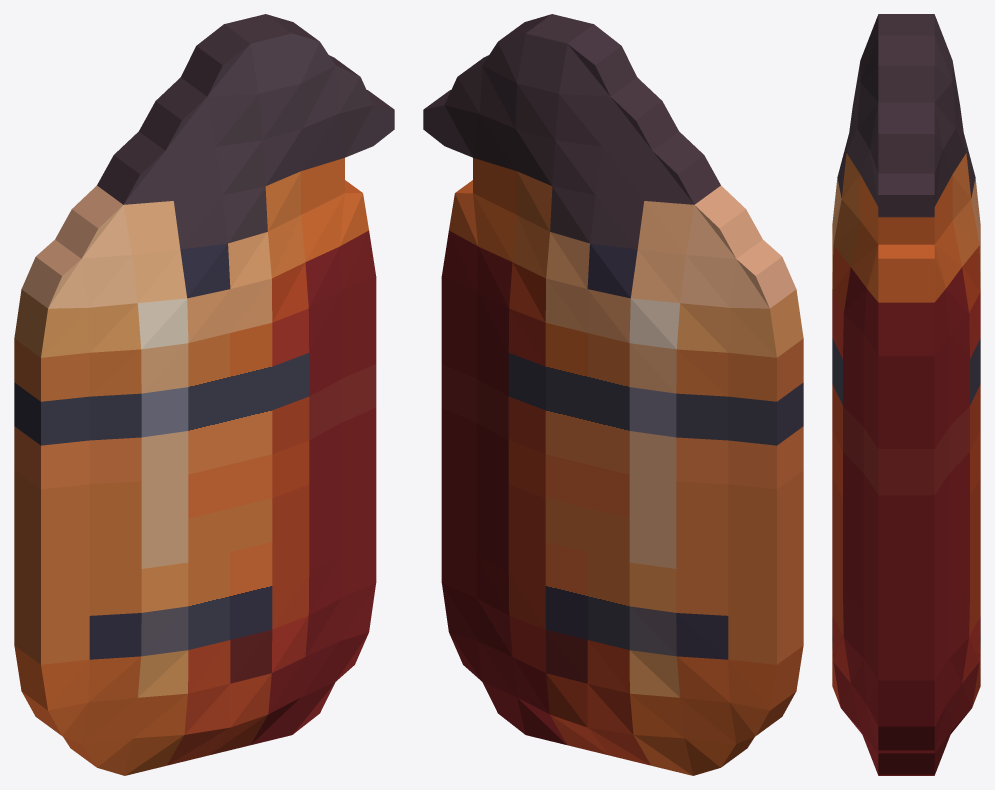
The model's file is dynamite_bundle.glb.
3 renders of one model, left to right at view 1: azimuth 30°, elevation 25°; view 2: azimuth 150°, elevation 25°; view 3: azimuth 270°, elevation 25°, orthographic. The views are drawn at different scales.
Parts seen in each view (by area): view 1: dynamite_bundle; view 2: dynamite_bundle; view 3: dynamite_bundle.
Boxes of the visible parts, x1,y1,x2,y2 form: dynamite_bundle: (14,14,394,775); dynamite_bundle: (423,14,803,775); dynamite_bundle: (832,14,980,775).
Size of the model in its own units: 0.5275 by 1 by 0.1813.
1 material, 1 textured.
